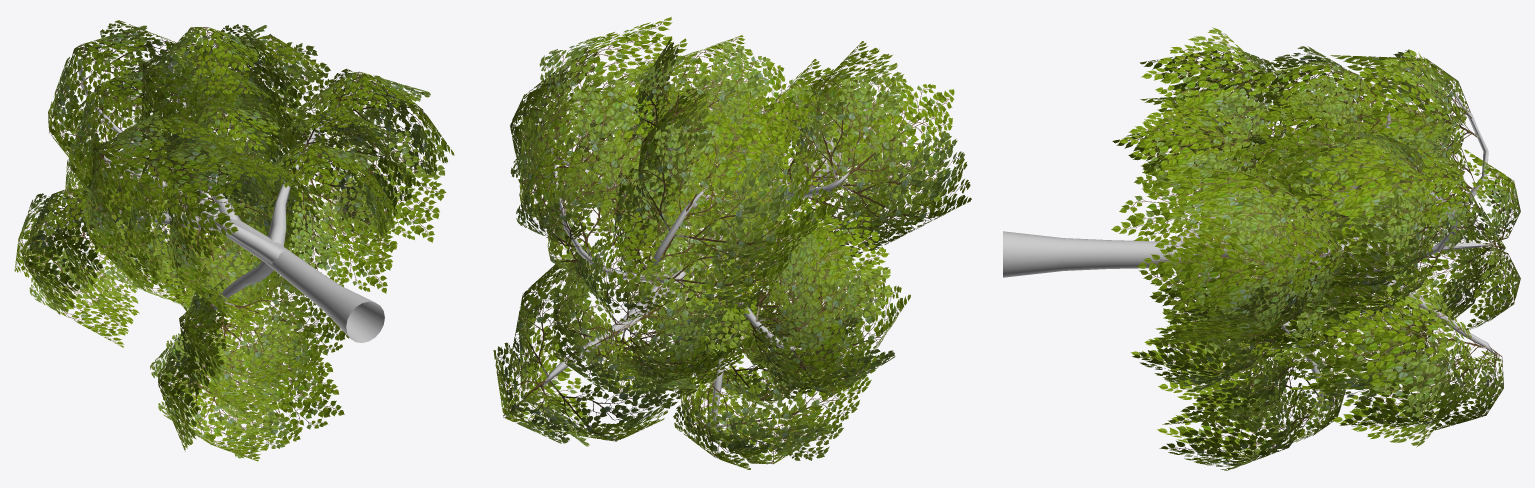
The model's file is Tree1.fbx.
3 views of the same model, side by side, from view 1: azimuth 30°, elevation 25°; view 2: azimuth 150°, elevation 25°; view 3: azimuth 270°, elevation 25° (orthographic). The views are drawn at different scales.
Visible parts, largest first — view 1: Birch_tree1; view 2: Birch_tree1; view 3: Birch_tree1.
Part boxes in pixels (x1,y1,x2,y2): Birch_tree1: (14, 20, 454, 461); Birch_tree1: (493, 17, 971, 469); Birch_tree1: (1003, 27, 1520, 470).
Size of the model in its own units: 1252 by 1264 by 1355.
